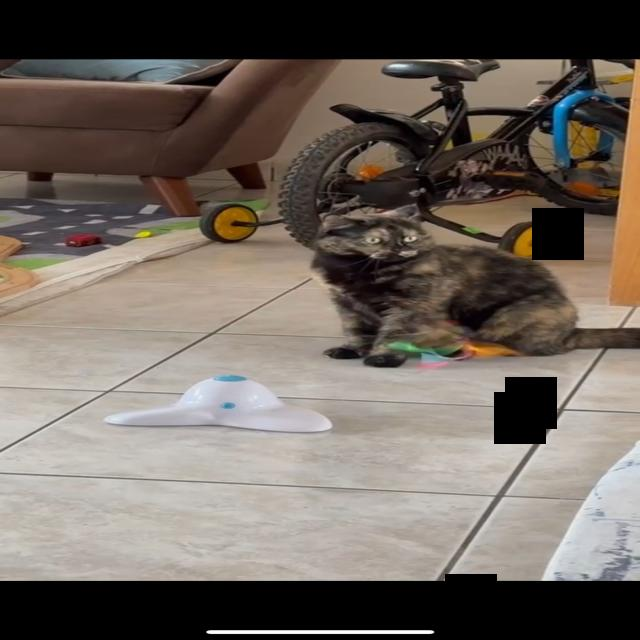authorized: (308, 203, 638, 364)
